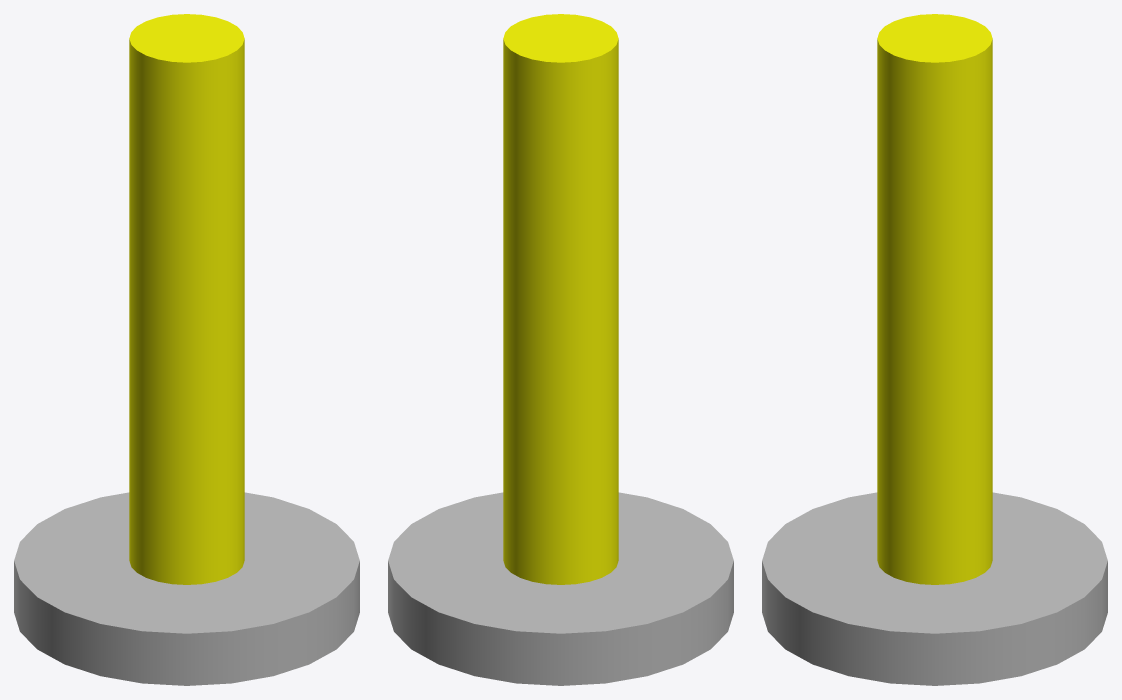
3 renders of one model, left to right at view 1: azimuth 30°, elevation 25°; view 2: azimuth 150°, elevation 25°; view 3: azimuth 270°, elevation 25°, orthographic.
Parts seen in each view (by area): view 1: SketchUp (×2); view 2: SketchUp (×2); view 3: SketchUp (×2).
Boxes of the visible parts, bbox=[...] form: SketchUp (×2): bbox=[14, 14, 359, 685]; SketchUp (×2): bbox=[388, 14, 733, 685]; SketchUp (×2): bbox=[762, 14, 1107, 685].
Bounding box in the file's own units: 0.6 × 0.6 × 1.1.
